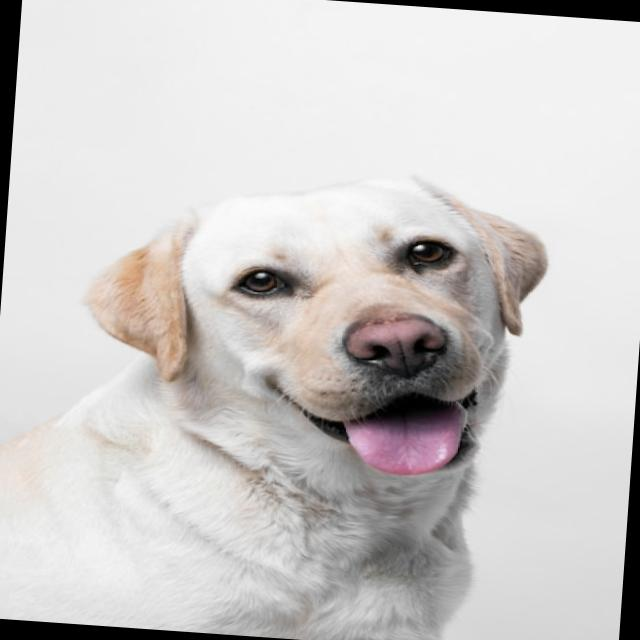Dog: (0, 146, 553, 640)
